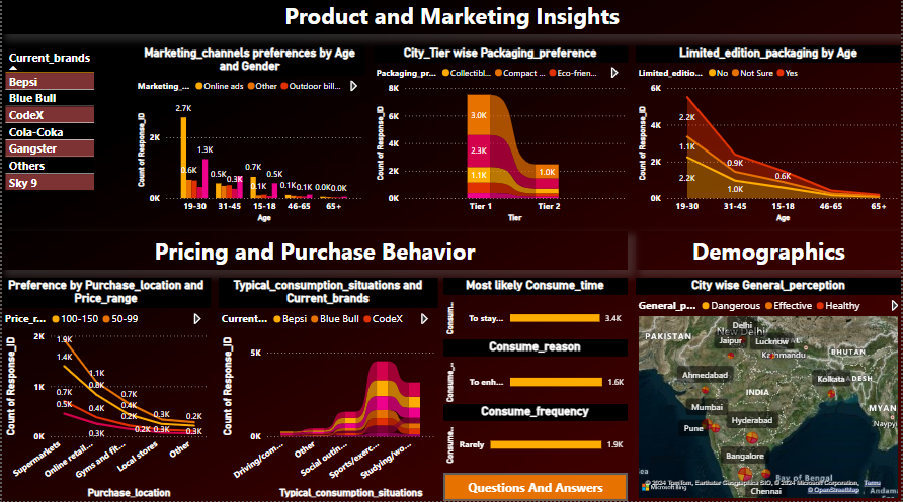

Layout of this report page (visuals, bound fields, positions):
{"tool":"powerbi","page":{"name":"Products & Marketing ","canvas":[1280,720],"ordinal":1},"visuals":[{"type":"tableEx","title":"BrandWise Perception","fields":{"Values":["fact_survey_responses.Current_brands"]},"box":[0,70,178.3,256.7],"z":0},{"type":"clusteredColumnChart","title":"Marketing_channels preferences by Age and Gender","fields":{"Category":["dim_repondents.Age"],"Series":["fact_survey_responses.Marketing_channels"],"Y":["CountNonNull(fact_survey_responses.Response_ID)"]},"box":[188.3,70,328.3,256.7],"z":1000},{"type":"ribbonChart","title":" City_Tier wise Packaging_preference","fields":{"Category":["dim_cities.Tier"],"Series":["fact_survey_responses.Packaging_preference"],"Y":["CountNonNull(fact_survey_responses.Response_ID)"]},"box":[528.3,70,361.7,256.7],"z":2000},{"type":"stackedAreaChart","title":" Limited_edition_packaging by Age ","fields":{"Category":["dim_repondents.Age"],"Series":["fact_survey_responses.Limited_edition_packaging"],"Y":["CountNonNull(fact_survey_responses.Response_ID)"]},"box":[901.7,70,378.3,256.7],"z":3000},{"type":"textbox","box":[0,0,1280,55],"z":4000},{"type":"textbox","box":[0,335,890,55],"z":5000},{"type":"lineChart","title":"Preference by Purchase_location and Price_range","fields":{"Category":["fact_survey_responses.Purchase_location"],"Y":["CountNonNull(fact_survey_responses.Response_ID)"],"Series":["fact_survey_responses.Price_range"]},"box":[0,401.7,296.7,318.3],"z":6000},{"type":"ribbonChart","title":"Typical_consumption_situations and Current_brands","fields":{"Category":["fact_survey_responses.Typical_consumption_situations"],"Series":["fact_survey_responses.Current_brands"],"Y":["CountNonNull(fact_survey_responses.Response_ID)"]},"box":[308.3,401.7,311.7,318.3],"z":7000},{"type":"textbox","box":[901.7,335,378.3,55],"z":8000},{"type":"map","title":" City wise General_perception","fields":{"Category":["dim_cities.City"],"Series":["fact_survey_responses.General_perception"],"Size":["CountNonNull(fact_survey_responses.Response_ID)"]},"box":[901.7,401.7,378.3,318.3],"z":9000},{"type":"clusteredBarChart","title":"Most likely Consume_time","fields":{"Category":["fact_survey_responses.Consume_time"],"Y":["CountNonNull(fact_survey_responses.Response_ID)"]},"box":[628.3,401.7,261.7,88.3],"z":10000},{"type":"clusteredBarChart","title":"Consume_reason","fields":{"Category":["fact_survey_responses.Consume_reason"],"Y":["CountNonNull(fact_survey_responses.Response_ID)"]},"box":[628.3,490,261.7,95],"z":11000},{"type":"clusteredBarChart","title":" Consume_frequency","fields":{"Category":["fact_survey_responses.Consume_frequency"],"Y":["CountNonNull(fact_survey_responses.Response_ID)"]},"box":[628.3,581.7,261.7,90],"z":12000},{"type":"actionButton","title":"QNA","box":[627.8,679.7,262.1,40.3],"z":13000}]}

Visuals, with their boxes in screenshot pixels (x1, y1, x2, y2), scaled from the page's 1280x720 canvas onto the 903x502 screenshot:
"BrandWise Perception" tableEx: (0,49,126,228)
"Marketing_channels preferences by Age and Gender" clusteredColumnChart: (133,49,364,228)
" City_Tier wise Packaging_preference" ribbonChart: (373,49,628,228)
" Limited_edition_packaging by Age " stackedAreaChart: (636,49,902,228)
textbox: (0,0,902,38)
textbox: (0,234,628,272)
"Preference by Purchase_location and Price_range" lineChart: (0,280,209,501)
"Typical_consumption_situations and Current_brands" ribbonChart: (217,280,437,501)
textbox: (636,234,902,272)
" City wise General_perception" map: (636,280,902,501)
"Most likely Consume_time" clusteredBarChart: (443,280,628,342)
"Consume_reason" clusteredBarChart: (443,342,628,408)
" Consume_frequency" clusteredBarChart: (443,406,628,468)
"QNA" actionButton: (443,474,628,501)
